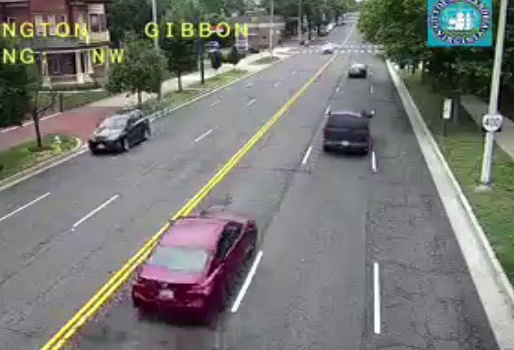car: (132, 214, 255, 316), (323, 111, 369, 153), (347, 63, 366, 78)
